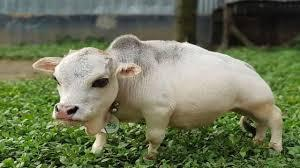cow: (33, 40, 282, 159)
